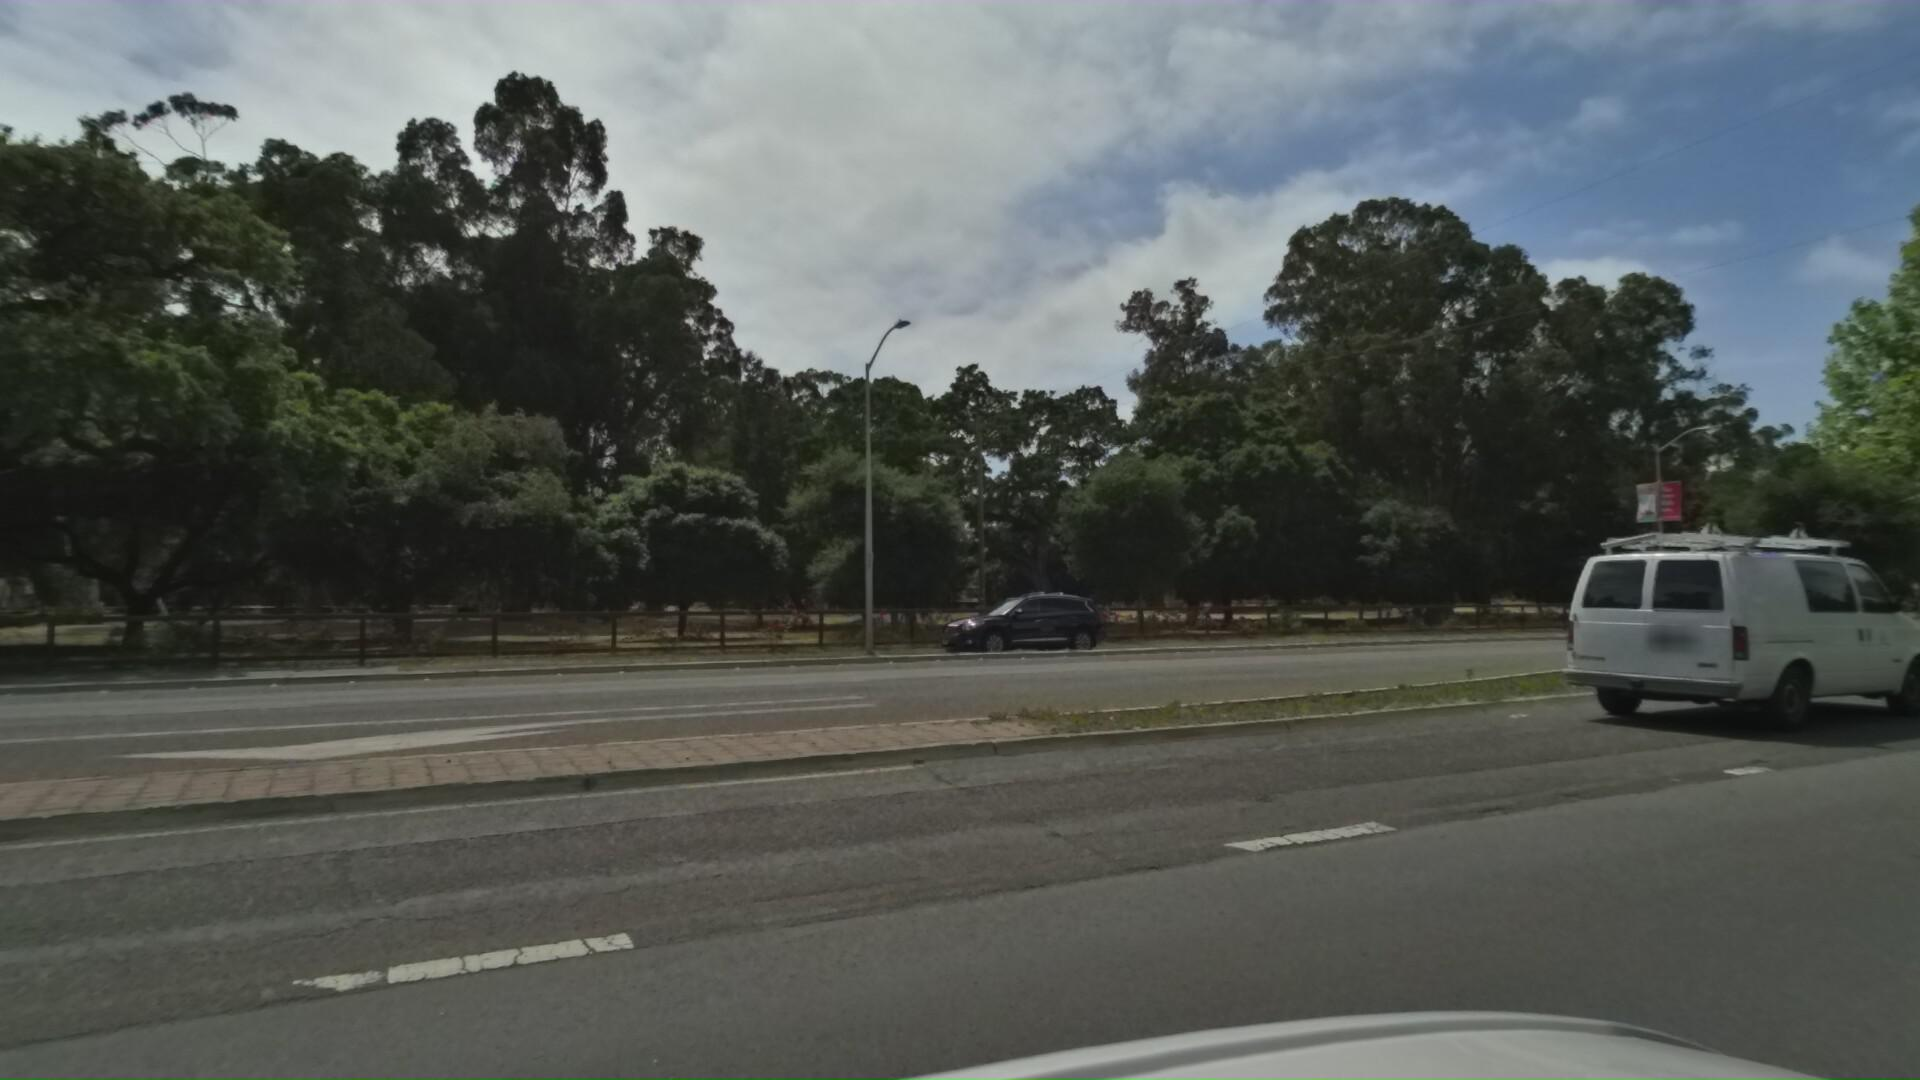car: (1557, 506, 1920, 740), (894, 589, 1085, 659)
